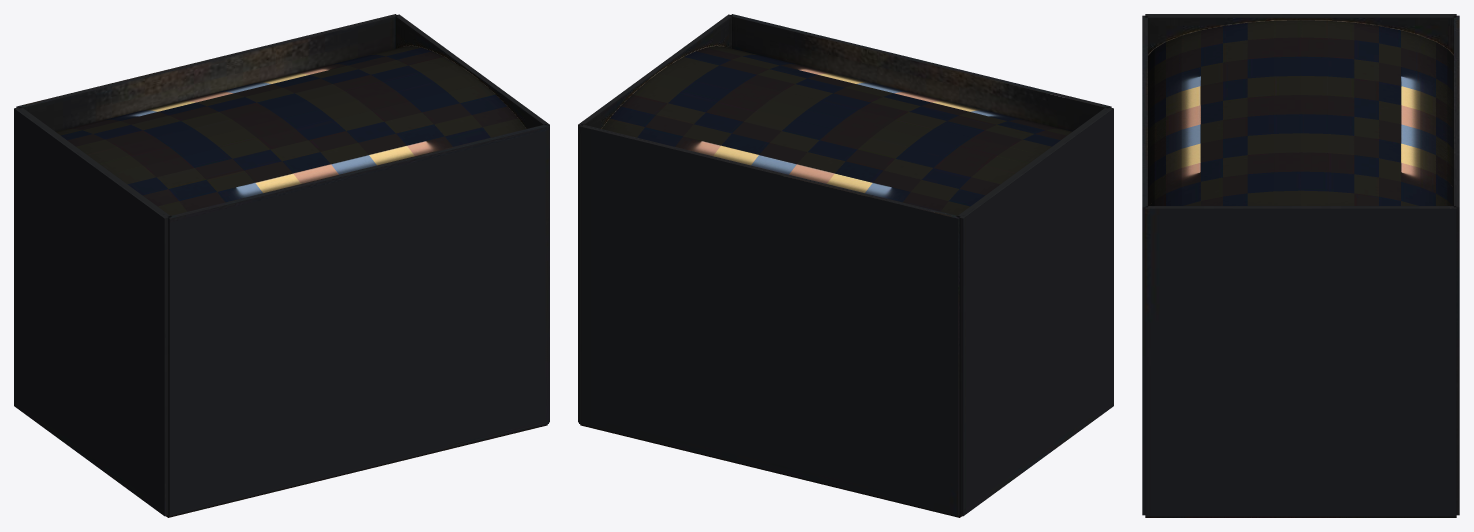
File: reading_room.glb
The picture shows the model from 3 angles, left to right: view 1: azimuth 30°, elevation 25°; view 2: azimuth 150°, elevation 25°; view 3: azimuth 270°, elevation 25°; orthographic projection. The views are drawn at different scales.
Visible parts, largest first — view 1: reading_room_walls, reading_room_vault, reading_room_floor; view 2: reading_room_walls, reading_room_vault, reading_room_floor; view 3: reading_room_walls, reading_room_vault, reading_room_floor.
Boxes of the visible parts, x1,y1,x2,y2 form: reading_room_walls: [14, 14, 549, 516]; reading_room_vault: [56, 46, 525, 215]; reading_room_floor: [166, 424, 547, 517]; reading_room_walls: [578, 14, 1113, 516]; reading_room_vault: [602, 46, 1071, 215]; reading_room_floor: [580, 424, 961, 517]; reading_room_walls: [1142, 14, 1459, 516]; reading_room_vault: [1148, 20, 1453, 205]; reading_room_floor: [1145, 516, 1456, 517].
Bounding box in the file's own units: 16.25 × 12.1 × 11.2.
Materials: 11 (9 with a texture image).
